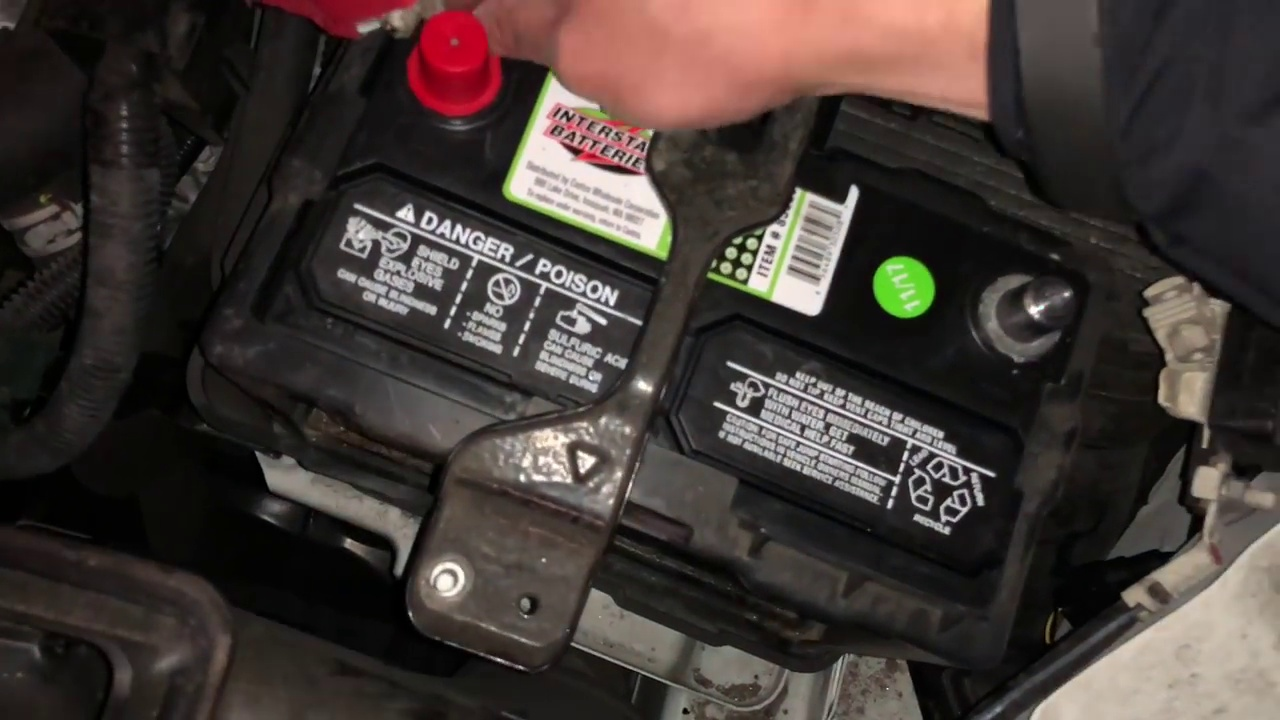battery: (276, 25, 1083, 664)
neg_disconnected: (961, 232, 1096, 375)
pos_disconnected: (367, 18, 530, 156)
